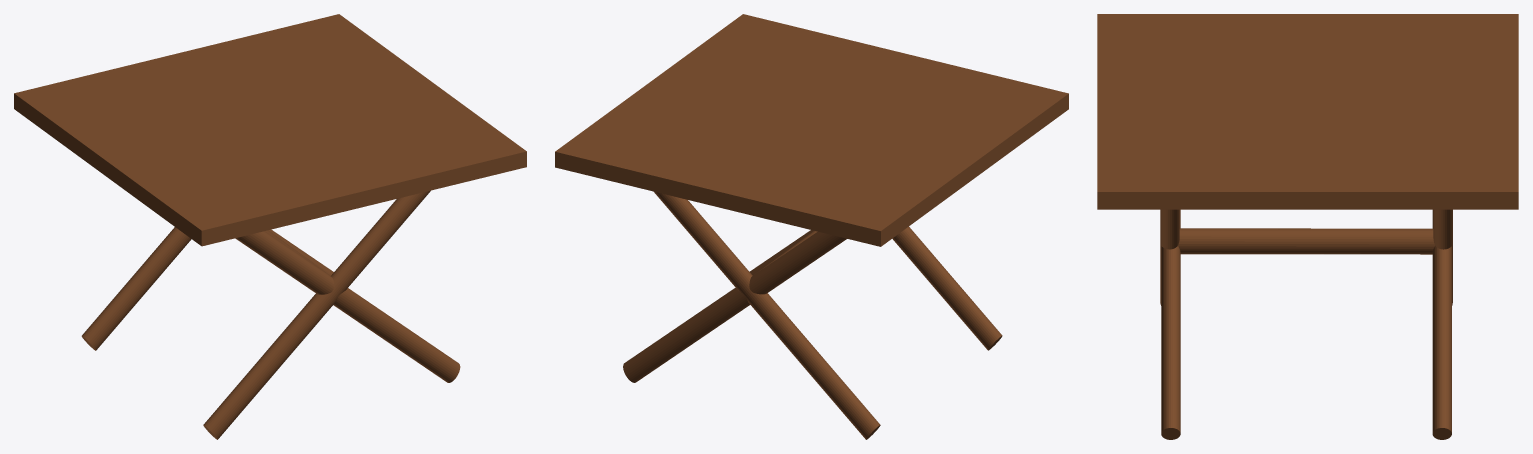
File: low_poly_side_table.glb
3 renders of one model, left to right at view 1: azimuth 30°, elevation 25°; view 2: azimuth 150°, elevation 25°; view 3: azimuth 270°, elevation 25°, orthographic. The views are drawn at different scales.
Parts seen in each view (by area): view 1: table; view 2: table; view 3: table.
Part boxes in pixels (bbox=[...]): table: bbox=[14, 14, 526, 439]; table: bbox=[555, 14, 1068, 439]; table: bbox=[1097, 14, 1518, 439].
Size of the model in its own units: 384 by 275 by 384.
